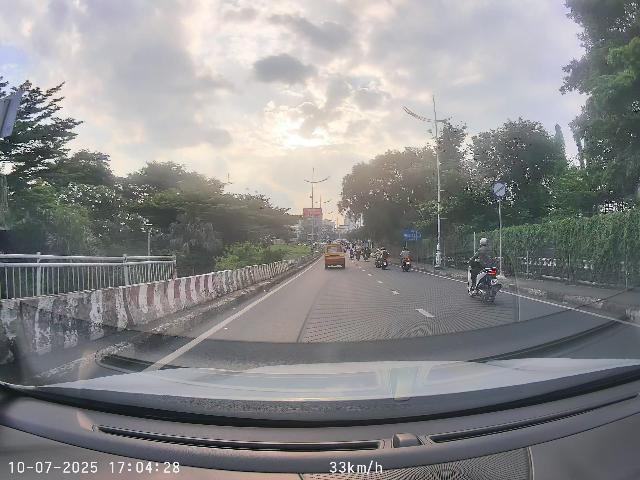135-het-tat-ca-cac-lenh-cam: (492, 182, 507, 198)
